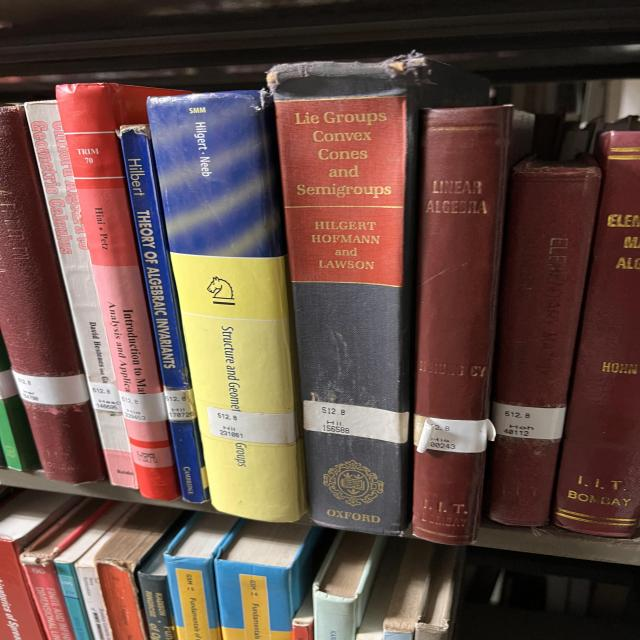Book: (267, 54, 488, 535), (148, 91, 307, 521), (57, 84, 187, 500), (413, 105, 533, 545), (25, 100, 137, 489), (487, 156, 602, 526), (0, 106, 107, 484), (553, 131, 640, 536), (118, 125, 208, 502), (215, 520, 322, 640), (0, 490, 82, 640), (95, 505, 182, 640), (383, 539, 465, 640), (312, 531, 387, 640), (355, 538, 408, 640), (75, 522, 120, 640), (0, 336, 38, 470), (137, 525, 178, 640), (23, 561, 75, 640), (55, 562, 93, 640), (175, 569, 210, 640), (292, 594, 313, 640)
Label: (303, 400, 410, 444), (207, 406, 297, 444), (417, 418, 495, 452), (13, 371, 90, 405), (118, 391, 167, 422), (163, 388, 197, 421), (88, 381, 122, 412)
